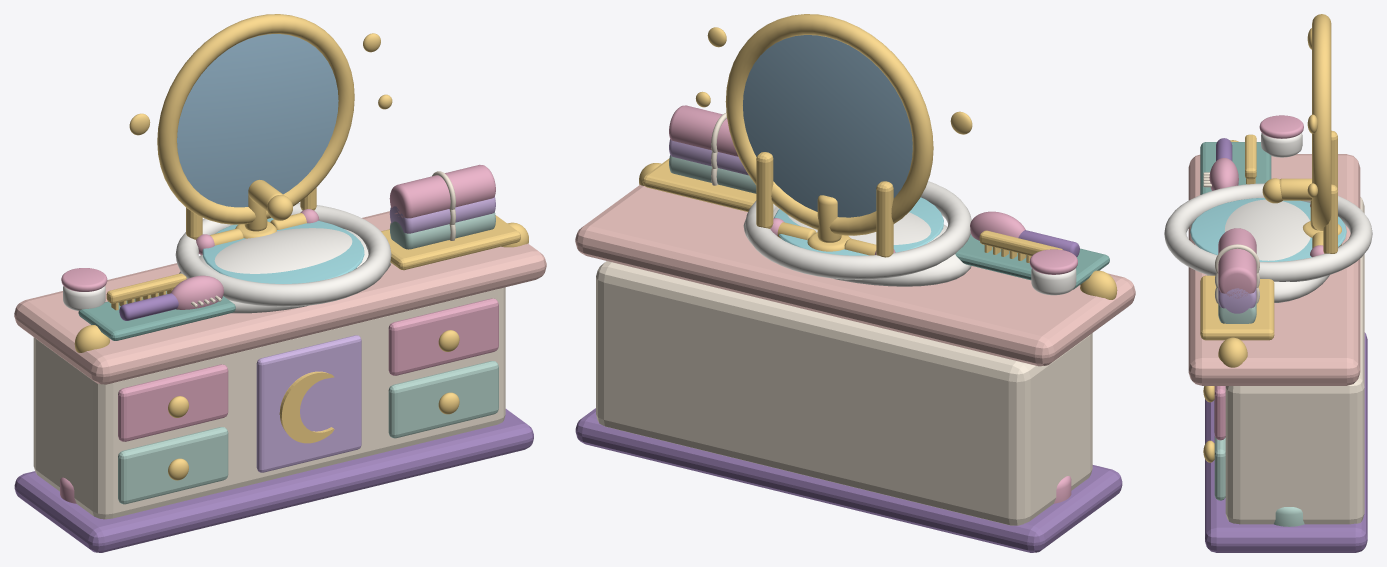
Rendered from MoonCareAtelier.fbx.
3 renders of one model, left to right at view 1: azimuth 30°, elevation 25°; view 2: azimuth 150°, elevation 25°; view 3: azimuth 270°, elevation 25°, orthographic. The views are drawn at different scales.
Parts seen in each view (by area): view 1: AtelierGroup_Atelier_Cream, AtelierGroup_Atelier_MoonGold, AtelierGroup_Atelier_Peach, AtelierGroup_Atelier_Mirror, AtelierGroup_Atelier_LilacDark, AtelierGroup_Atelier_Rose, AtelierGroup_Atelier_Sage, AtelierGroup_Atelier_Porcelain, AtelierGroup_Atelier_Lilac, AtelierGroup_Atelier_Water, AtelierGroup_Atelier_SageDark; view 2: AtelierGroup_Atelier_Cream, AtelierGroup_Atelier_Peach, AtelierGroup_Atelier_Mirror, AtelierGroup_Atelier_MoonGold, AtelierGroup_Atelier_LilacDark, AtelierGroup_Atelier_Porcelain, AtelierGroup_Atelier_Rose, AtelierGroup_Atelier_SageDark, AtelierGroup_Atelier_Water, AtelierGroup_Atelier_Sage, AtelierGroup_Atelier_Lilac; view 3: AtelierGroup_Atelier_Cream, AtelierGroup_Atelier_Peach, AtelierGroup_Atelier_Porcelain, AtelierGroup_Atelier_MoonGold, AtelierGroup_Atelier_LilacDark, AtelierGroup_Atelier_Rose, AtelierGroup_Atelier_Water, AtelierGroup_Atelier_Sage, AtelierGroup_Atelier_SageDark, AtelierGroup_Atelier_Lilac.
Part boxes in pixels (left/top/right/bottom): AtelierGroup_Atelier_Cream: left=33, top=171, right=505, bottom=519; AtelierGroup_Atelier_MoonGold: left=74, top=14, right=528, bottom=480; AtelierGroup_Atelier_Peach: left=14, top=211, right=546, bottom=384; AtelierGroup_Atelier_Mirror: left=177, top=34, right=338, bottom=207; AtelierGroup_Atelier_LilacDark: left=14, top=293, right=533, bottom=552; AtelierGroup_Atelier_Rose: left=60, top=164, right=498, bottom=503; AtelierGroup_Atelier_Sage: left=118, top=212, right=498, bottom=504; AtelierGroup_Atelier_Porcelain: left=63, top=203, right=391, bottom=313; AtelierGroup_Atelier_Lilac: left=256, top=196, right=495, bottom=472; AtelierGroup_Atelier_Water: left=202, top=218, right=364, bottom=283; AtelierGroup_Atelier_SageDark: left=78, top=291, right=235, bottom=340; AtelierGroup_Atelier_Cream: left=596, top=113, right=1092, bottom=525; AtelierGroup_Atelier_Peach: left=575, top=185, right=1135, bottom=366; AtelierGroup_Atelier_Mirror: left=743, top=35, right=912, bottom=217; AtelierGroup_Atelier_MoonGold: left=639, top=14, right=1117, bottom=299; AtelierGroup_Atelier_LilacDark: left=575, top=230, right=1122, bottom=552; AtelierGroup_Atelier_Porcelain: left=743, top=181, right=1076, bottom=295; AtelierGroup_Atelier_Rose: left=669, top=105, right=1077, bottom=503; AtelierGroup_Atelier_SageDark: left=955, top=234, right=1109, bottom=289; AtelierGroup_Atelier_Water: left=774, top=197, right=943, bottom=255; AtelierGroup_Atelier_Sage: left=669, top=155, right=756, bottom=193; AtelierGroup_Atelier_Lilac: left=669, top=139, right=748, bottom=175; AtelierGroup_Atelier_Cream: left=1203, top=172, right=1364, bottom=524; AtelierGroup_Atelier_Peach: left=1188, top=154, right=1360, bottom=385; AtelierGroup_Atelier_Porcelain: left=1164, top=133, right=1372, bottom=302; AtelierGroup_Atelier_MoonGold: left=1200, top=14, right=1341, bottom=462; AtelierGroup_Atelier_LilacDark: left=1205, top=138, right=1367, bottom=552; AtelierGroup_Atelier_Rose: left=1209, top=115, right=1323, bottom=440; AtelierGroup_Atelier_Water: left=1190, top=198, right=1346, bottom=261; AtelierGroup_Atelier_Sage: left=1214, top=300, right=1304, bottom=526; AtelierGroup_Atelier_SageDark: left=1200, top=142, right=1271, bottom=194; AtelierGroup_Atelier_Lilac: left=1214, top=286, right=1256, bottom=433.
Bounding box in the file's own units: 3.42 × 3.2 × 1.41.
